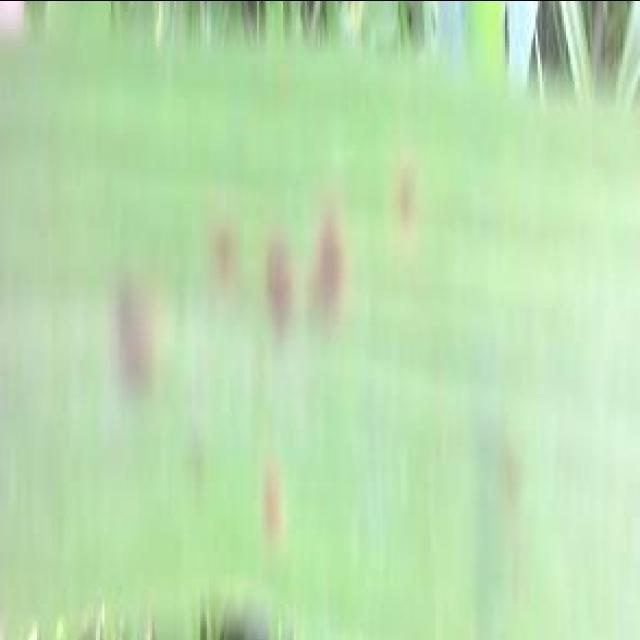Brown_Spot: (104, 242, 178, 426), (310, 190, 364, 350), (259, 222, 303, 355), (180, 412, 222, 522), (498, 429, 536, 527), (255, 457, 294, 544), (392, 155, 431, 235), (207, 216, 244, 296)
